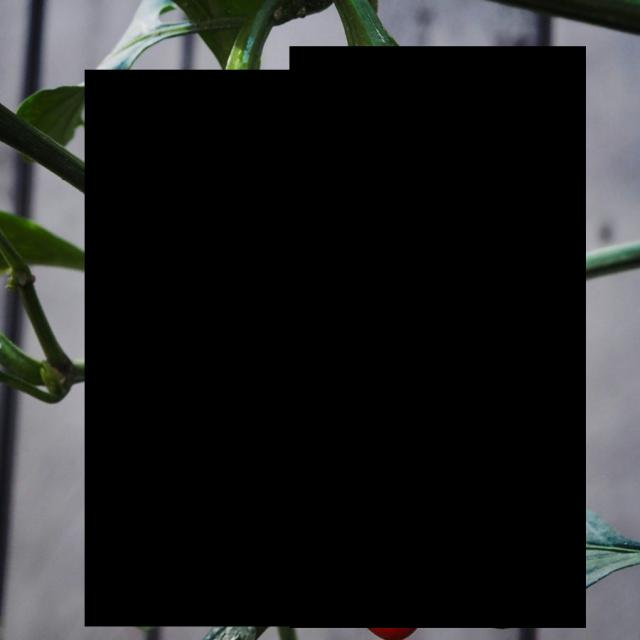Chili_Pepper: (289, 47, 586, 628), (85, 70, 320, 627)
